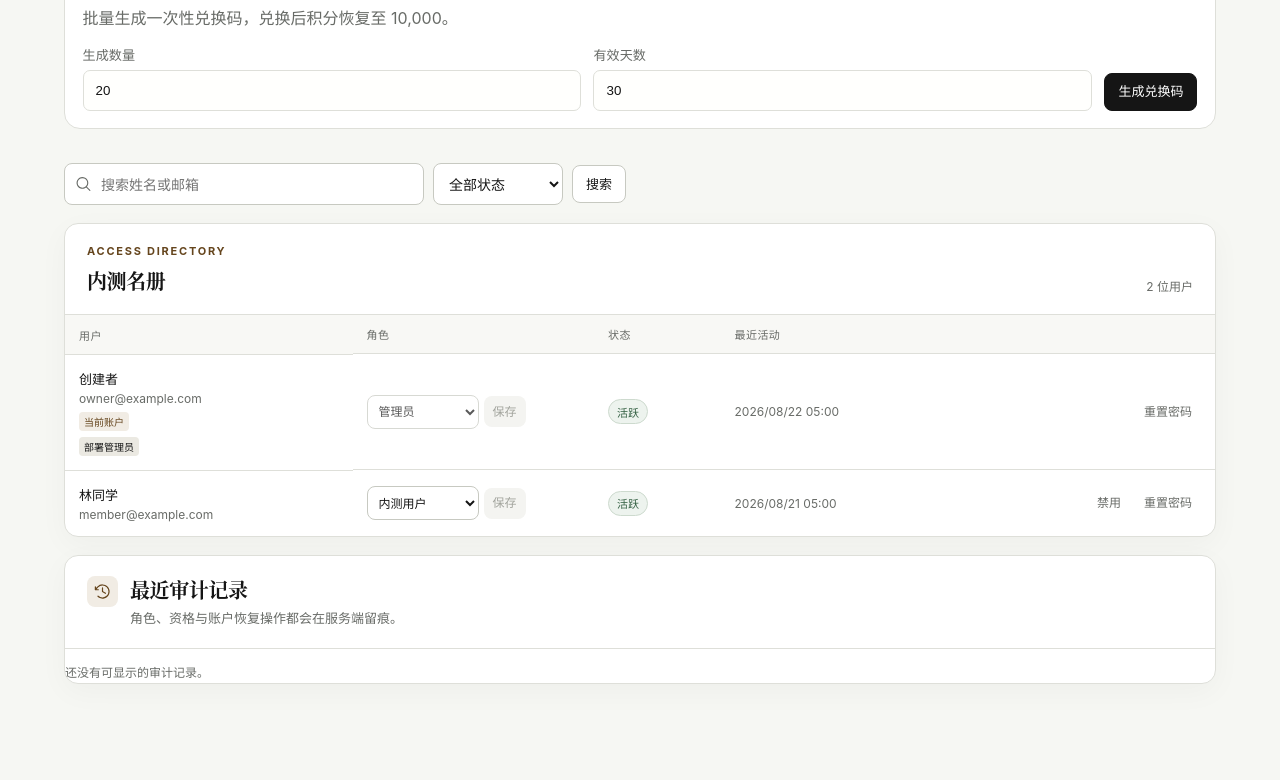
Test: AdminUsersPage › requires a focused, escapable confirmation before disabling a user
(page scrolled)
Click the button with aria-label "禁用 member@example.com" at coordinates (1109, 503), box [1088, 488, 1130, 519]
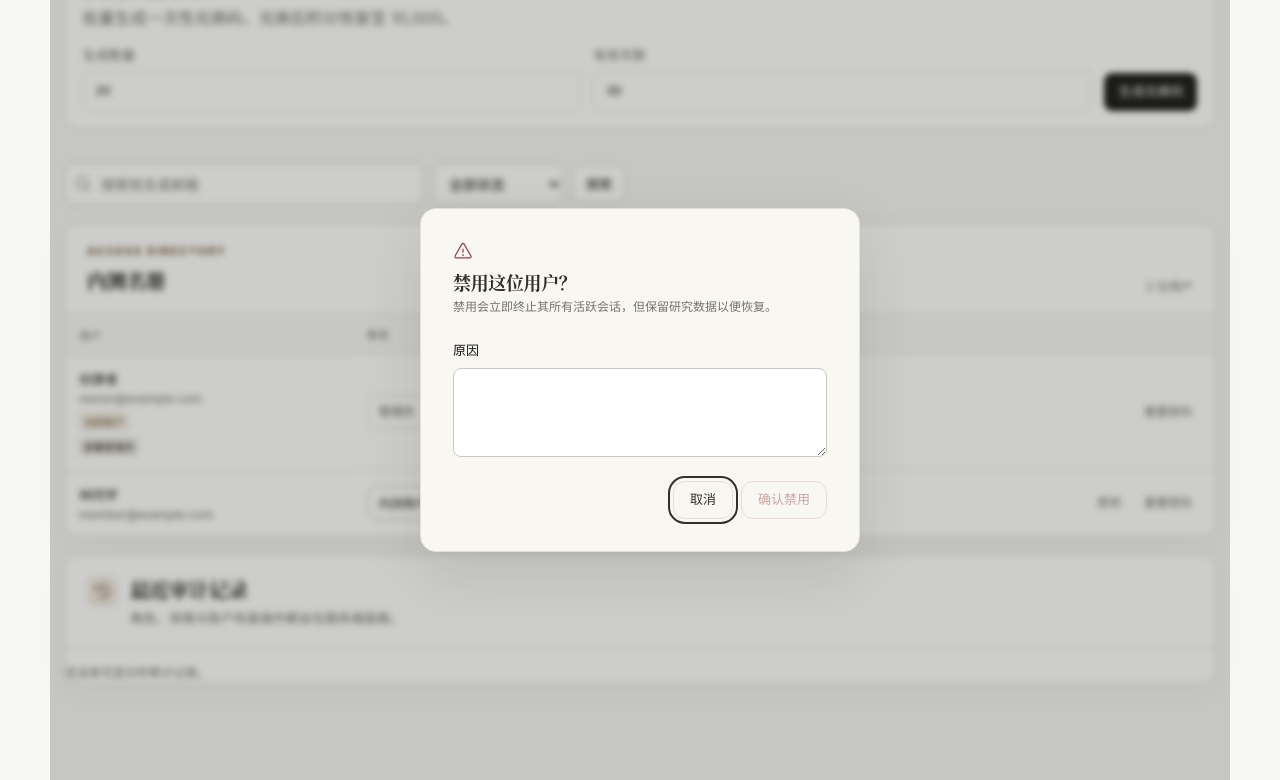
Expected: the dialog "禁用这位用户？" shows "立即终止其所有活跃会话", [453, 299, 777, 314]
Press Escape in the dialog "禁用这位用户？", box [420, 208, 860, 552]
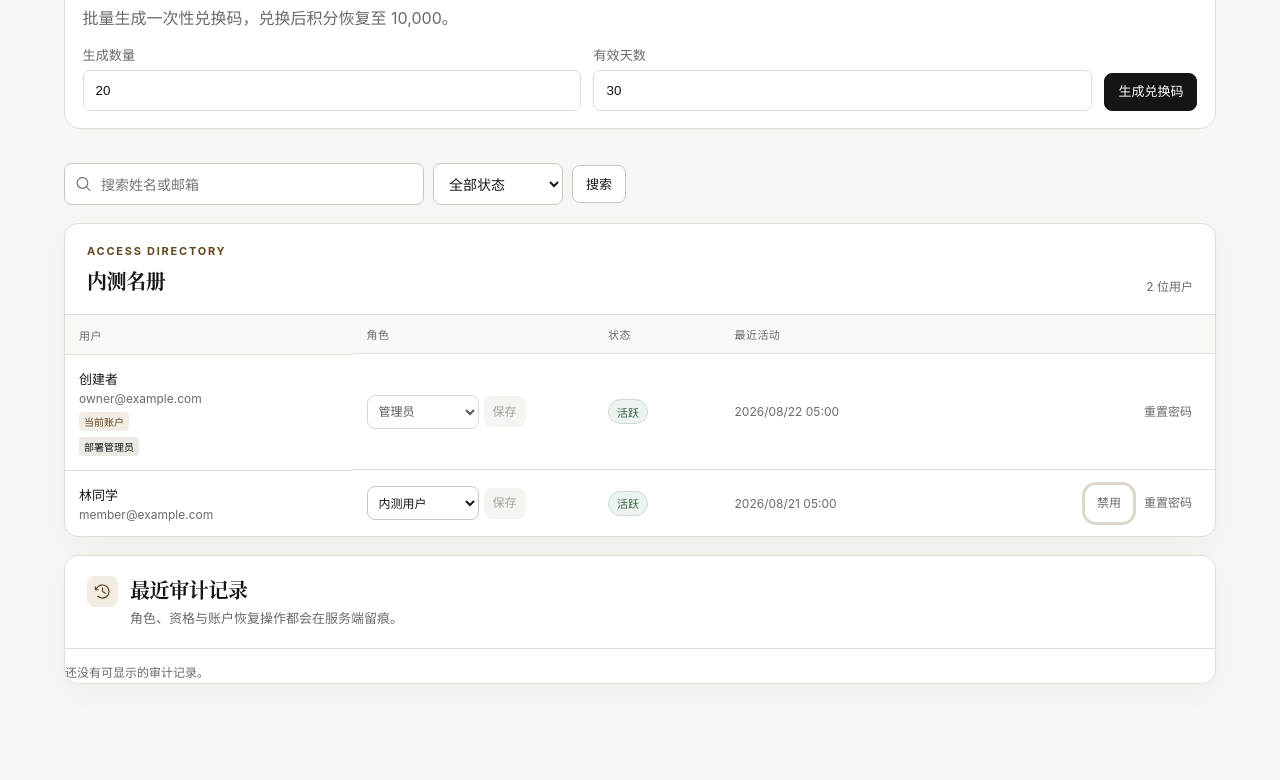
Click the button with aria-label "禁用 member@example.com" at coordinates (1109, 503), box [1088, 488, 1130, 519]
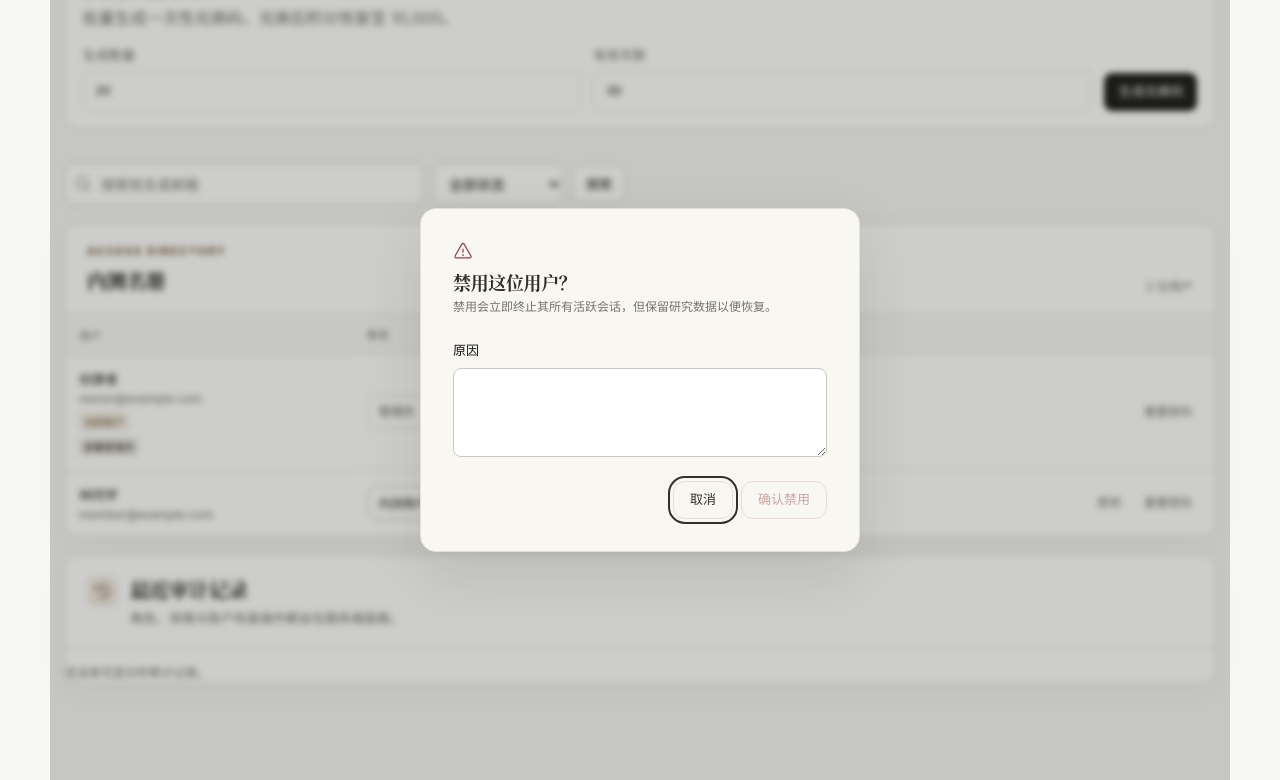
Type "内测资格暂停" into the text box labelled "原因" at coordinates (640, 413), box [453, 368, 827, 457]
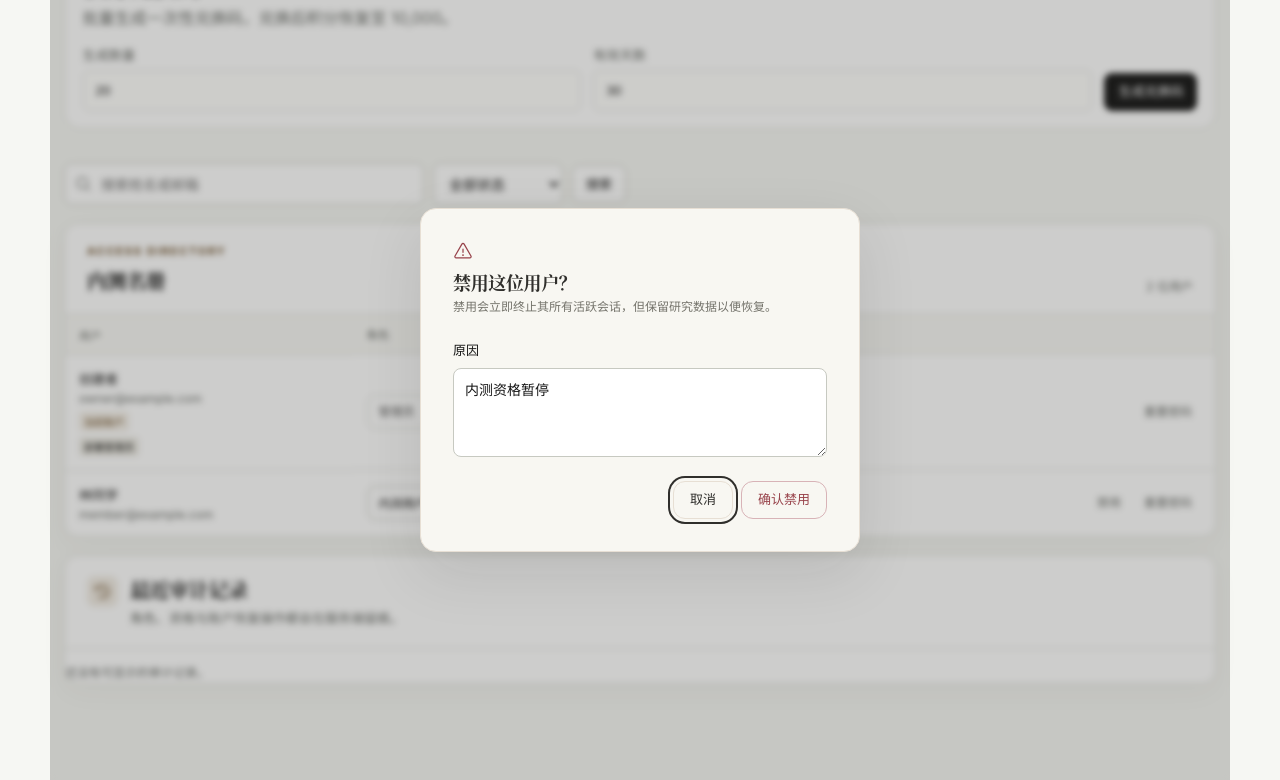
Click the button "确认禁用" at coordinates (784, 500), box [741, 481, 827, 519]
(page scrolled)
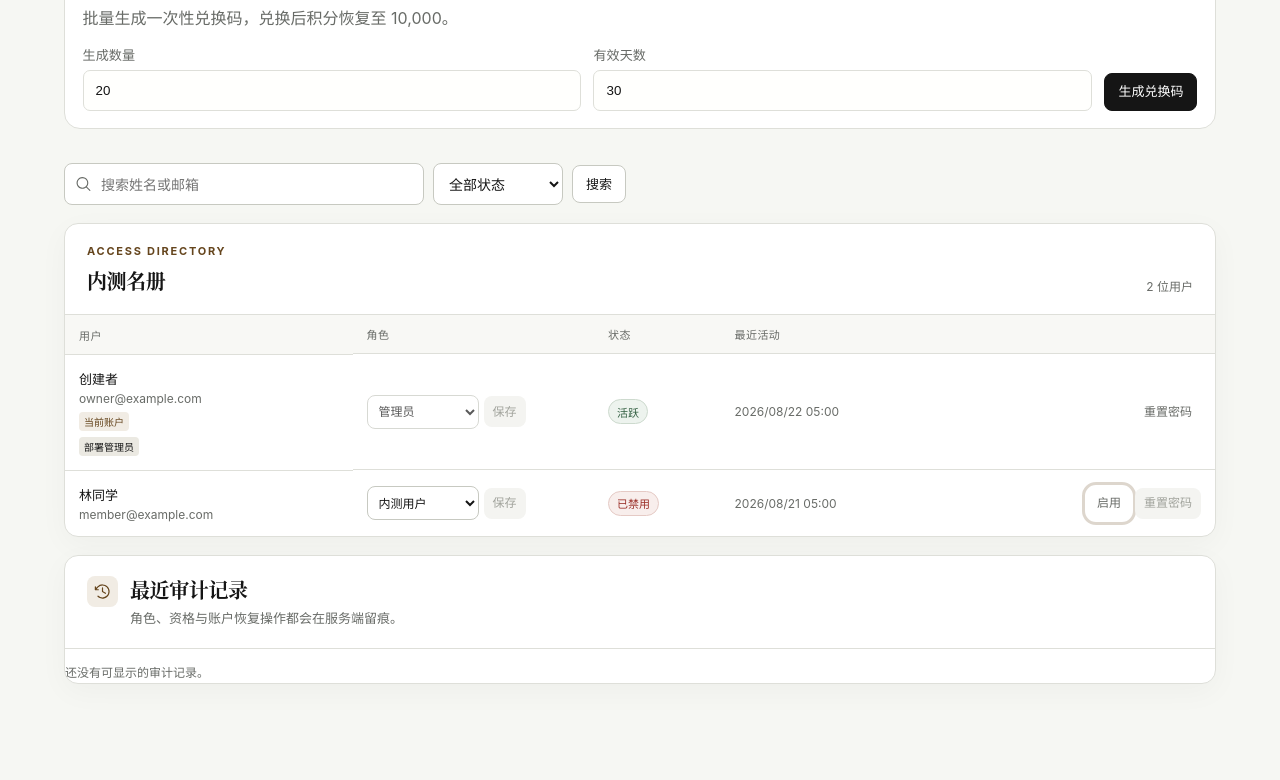
Expected: the text "已禁用" is shown, [608, 491, 659, 516]
Expected: the button with aria-label "启用 member@example.com" is shown, [1088, 488, 1130, 519]
